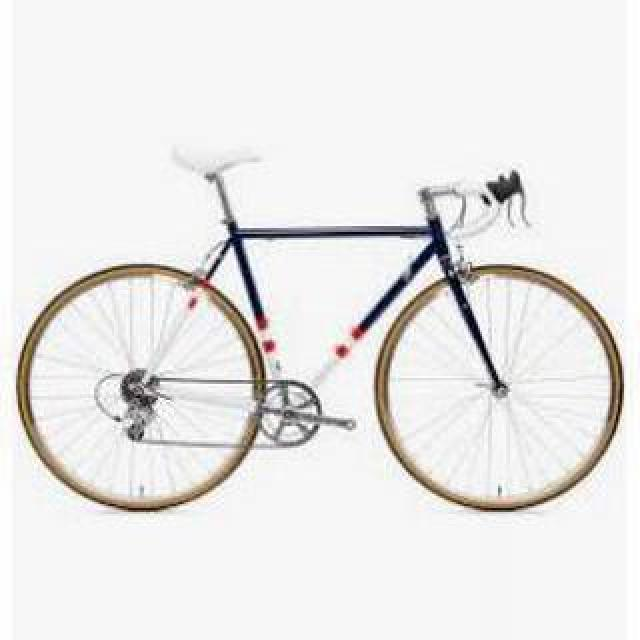Person: (16, 149, 628, 515)
